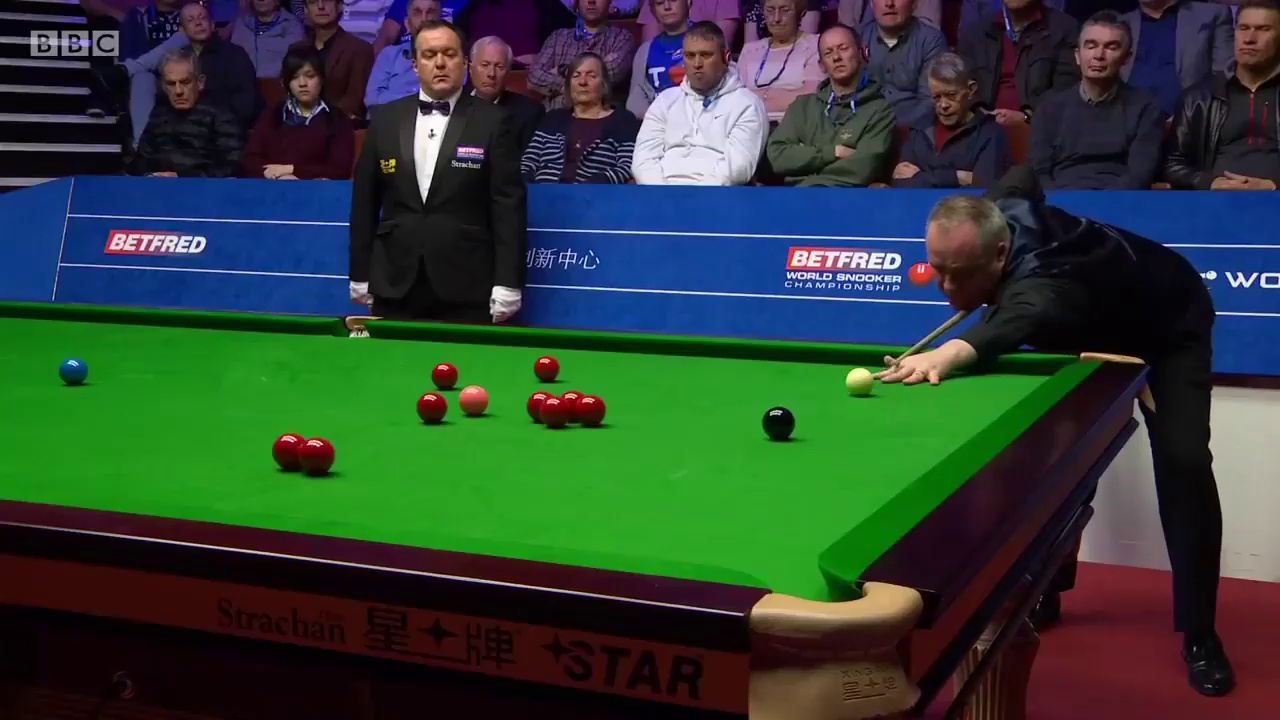black: (761, 408, 795, 437)
blue: (58, 354, 87, 386)
pink: (458, 385, 485, 414)
red: (297, 439, 334, 475), (414, 392, 448, 422), (540, 397, 569, 426), (577, 396, 605, 425), (431, 362, 458, 387), (535, 356, 559, 383)
white: (847, 365, 873, 394)
